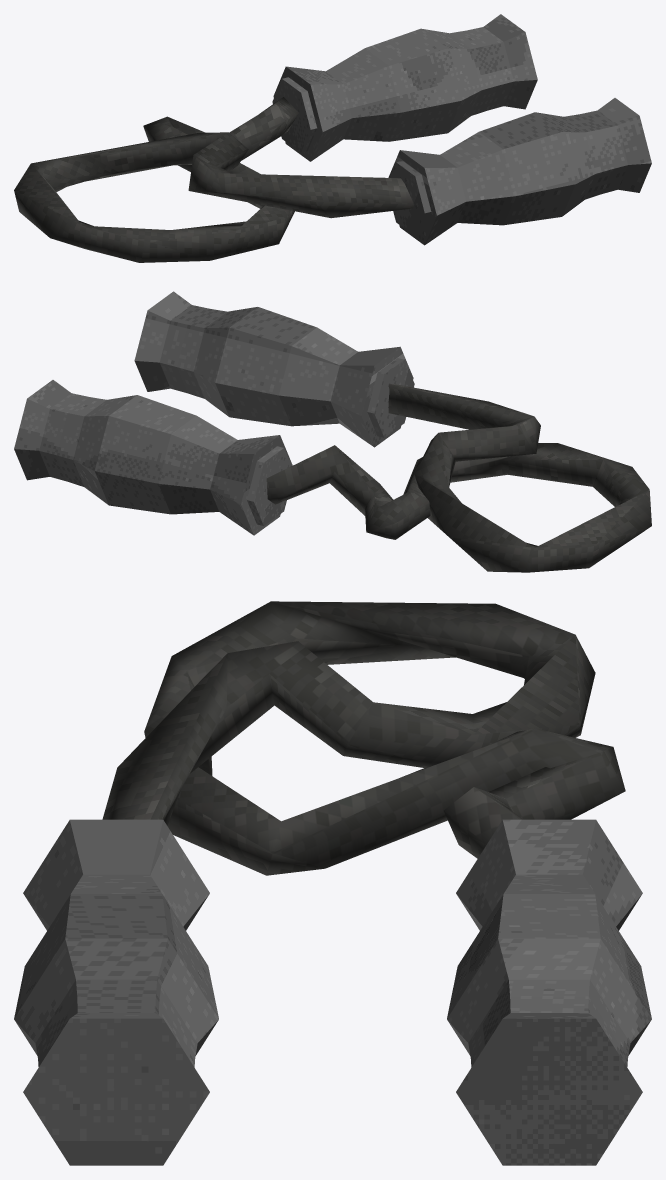
File: Corda_Saltare.fbx
3 renders of one model, top to bottom at view 1: azimuth 30°, elevation 25°; view 2: azimuth 150°, elevation 25°; view 3: azimuth 270°, elevation 25°, orthographic. The views are drawn at different scales.
Parts seen in each view (by area): view 1: Cylinder; view 2: Cylinder; view 3: Cylinder.
Part boxes in pixels (x1=…): Cylinder: x1=14, y1=14, x2=651, y2=262; Cylinder: x1=14, y1=291, x2=651, y2=572; Cylinder: x1=14, y1=601, x2=651, y2=1165.
Size of the model in its own units: 0.1844 by 0.0311 by 0.103.
Materials: 2 (2 with a texture image).
